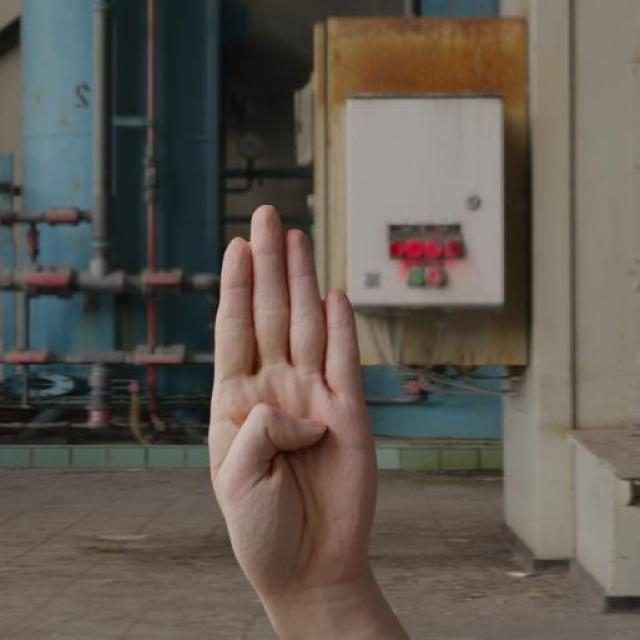B: (199, 202, 377, 598)
